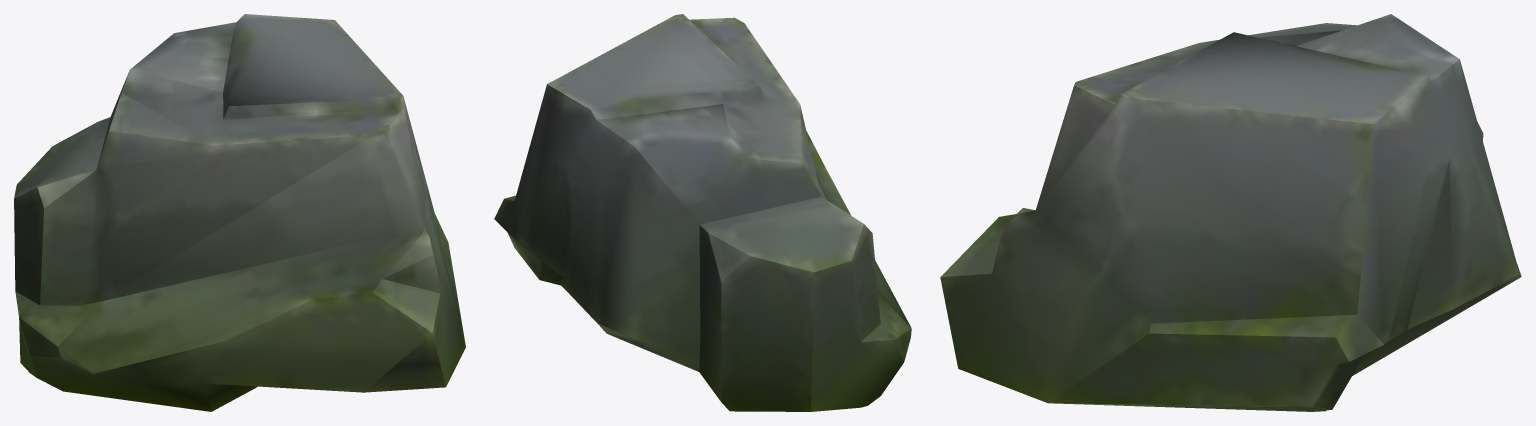
The model's file is rock_3.glb.
The picture shows the model from 3 angles, left to right: view 1: azimuth 30°, elevation 25°; view 2: azimuth 150°, elevation 25°; view 3: azimuth 270°, elevation 25°; orthographic projection. The views are drawn at different scales.
Parts seen in each view (by area): view 1: Rock_Medium_3; view 2: Rock_Medium_3; view 3: Rock_Medium_3.
Part boxes in pixels (left/top/right/bottom): Rock_Medium_3: left=14, top=14, right=465, bottom=411; Rock_Medium_3: left=494, top=14, right=911, bottom=411; Rock_Medium_3: left=940, top=14, right=1521, bottom=411.
Size of the model in its own units: 3.4 by 2.28 by 3.48.
1 material, 1 textured.
